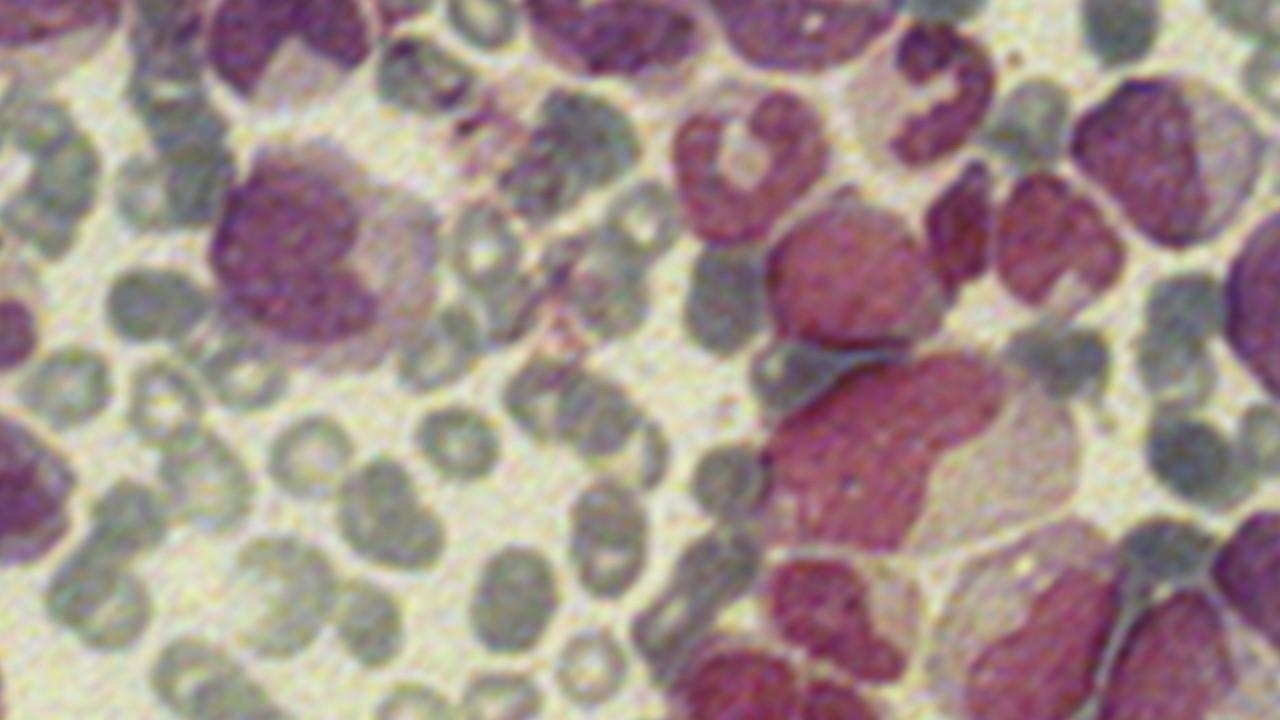RBC: (550, 620, 630, 712)
WBC: (1064, 60, 1274, 254), (838, 19, 1002, 174), (990, 170, 1124, 321), (1097, 585, 1251, 715), (202, 7, 374, 118), (1218, 198, 1278, 426), (920, 150, 1002, 291)
